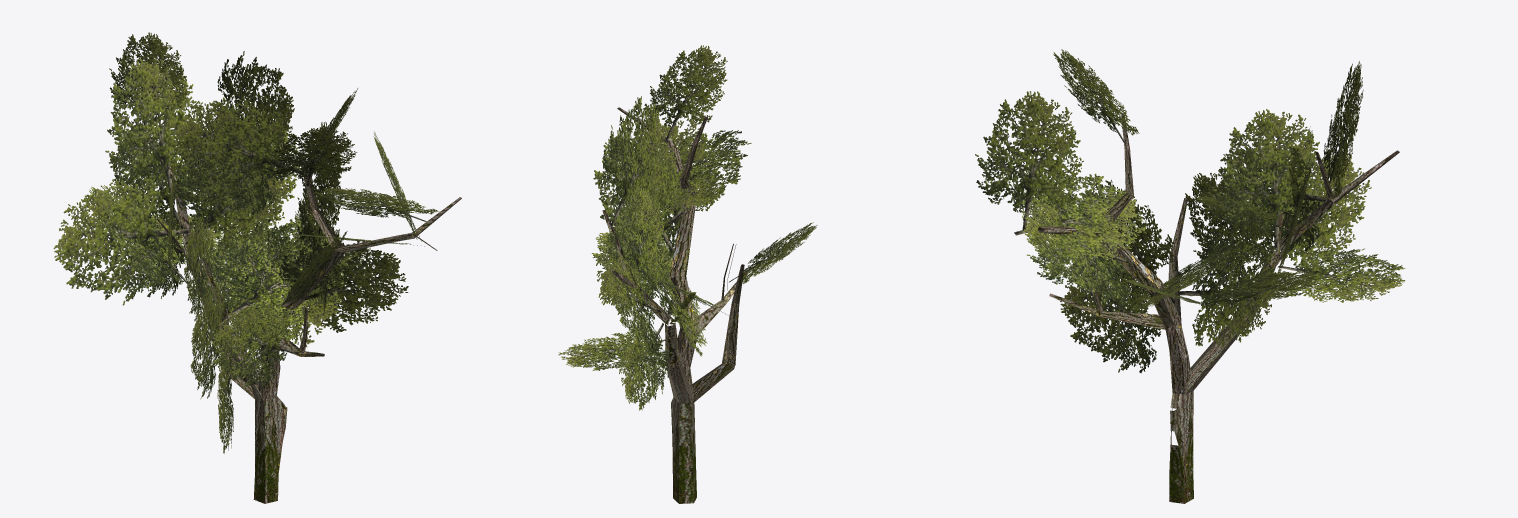
The model's file is tree08.glb.
The picture shows the model from 3 angles, left to right: view 1: azimuth 30°, elevation 25°; view 2: azimuth 150°, elevation 25°; view 3: azimuth 270°, elevation 25°; orthographic projection. The views are drawn at different scales.
Parts seen in each view (by area): view 1: treee08; view 2: treee08; view 3: treee08.
Part boxes in pixels (left/top/right/bottom): treee08: left=53, top=32, right=461, bottom=503; treee08: left=558, top=45, right=817, bottom=503; treee08: left=975, top=49, right=1405, bottom=503.
Bounding box in the file's own units: 38.72 × 51.16 × 57.94.
Materials: 1 (1 with a texture image).
